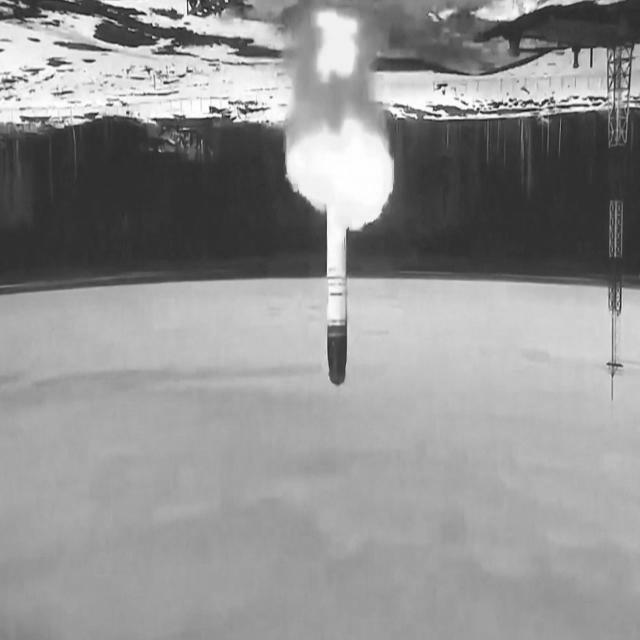Missile: (324, 201, 351, 387)
